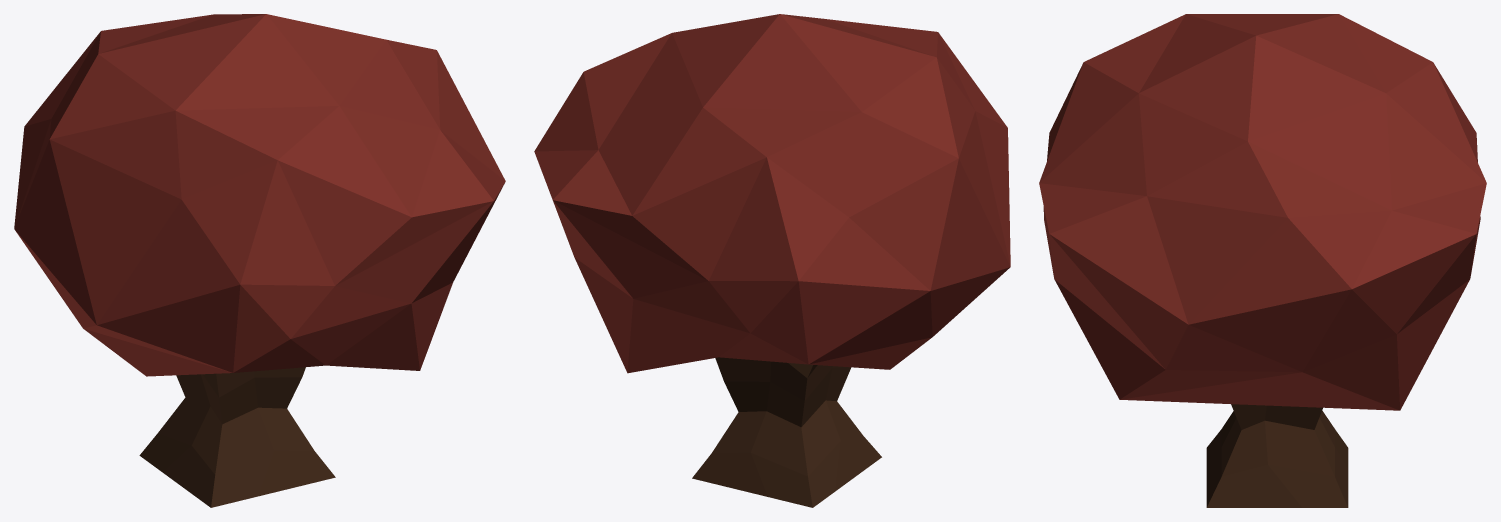
File: Tree_33_Red.fbx
3 views of the same model, side by side, from view 1: azimuth 30°, elevation 25°; view 2: azimuth 150°, elevation 25°; view 3: azimuth 270°, elevation 25° (orthographic). The views are drawn at different scales.
Visible parts, largest first — view 1: Tree_33_Red_Part_1, Tree_33_Red_Part_2; view 2: Tree_33_Red_Part_1, Tree_33_Red_Part_2; view 3: Tree_33_Red_Part_1, Tree_33_Red_Part_2.
Part boxes in pixels (x1,y1,x2,y2): Tree_33_Red_Part_1: (14,14,505,376); Tree_33_Red_Part_2: (139,367,335,507); Tree_33_Red_Part_1: (534,14,1010,373); Tree_33_Red_Part_2: (692,357,881,507); Tree_33_Red_Part_1: (1039,14,1486,410); Tree_33_Red_Part_2: (1206,404,1348,507).
Size of the model in its own units: 762 by 812 by 731.
